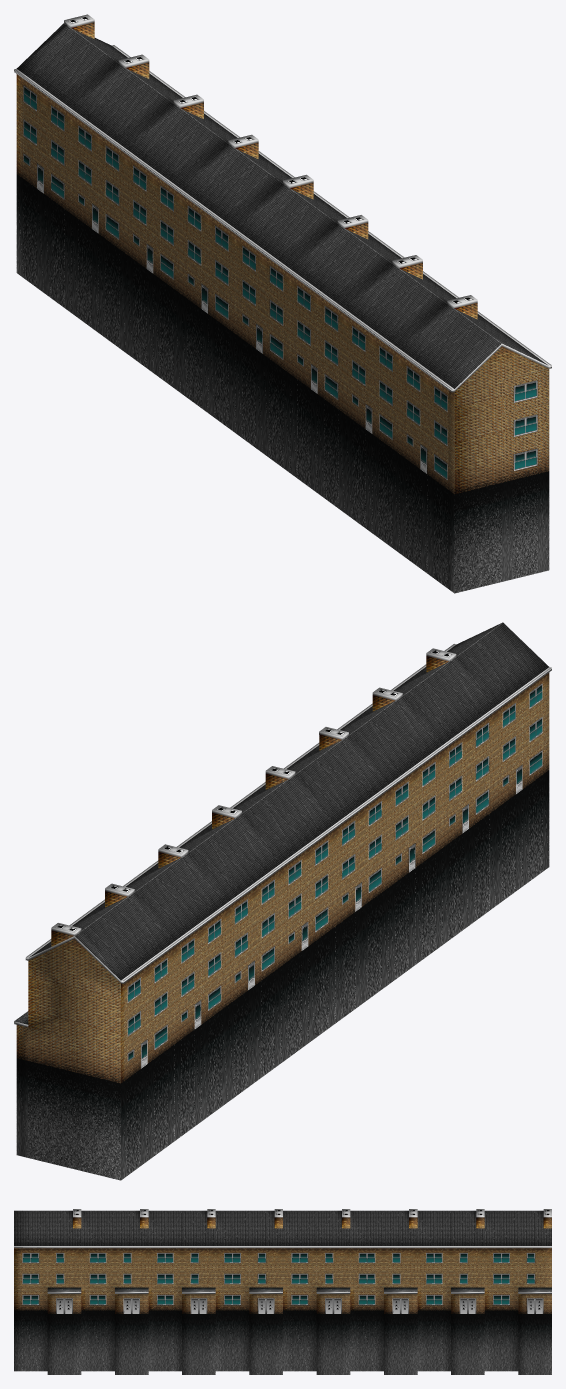
Rendered from maisonet_mod2_4b.fbx.
3 renders of one model, top to bottom at view 1: azimuth 30°, elevation 25°; view 2: azimuth 150°, elevation 25°; view 3: azimuth 270°, elevation 25°, orthographic. The views are drawn at different scales.
Visible parts, largest first — view 1: maisonet_mod2_4b; view 2: maisonet_mod2_4b; view 3: maisonet_mod2_4b.
Part boxes in pixels (x1=…): maisonet_mod2_4b: x1=14, y1=14, x2=551, y2=593; maisonet_mod2_4b: x1=14, y1=622, x2=551, y2=1180; maisonet_mod2_4b: x1=14, y1=1209, x2=551, y2=1374.
Bounding box in the file's own units: 1062 × 2188 × 7200.
